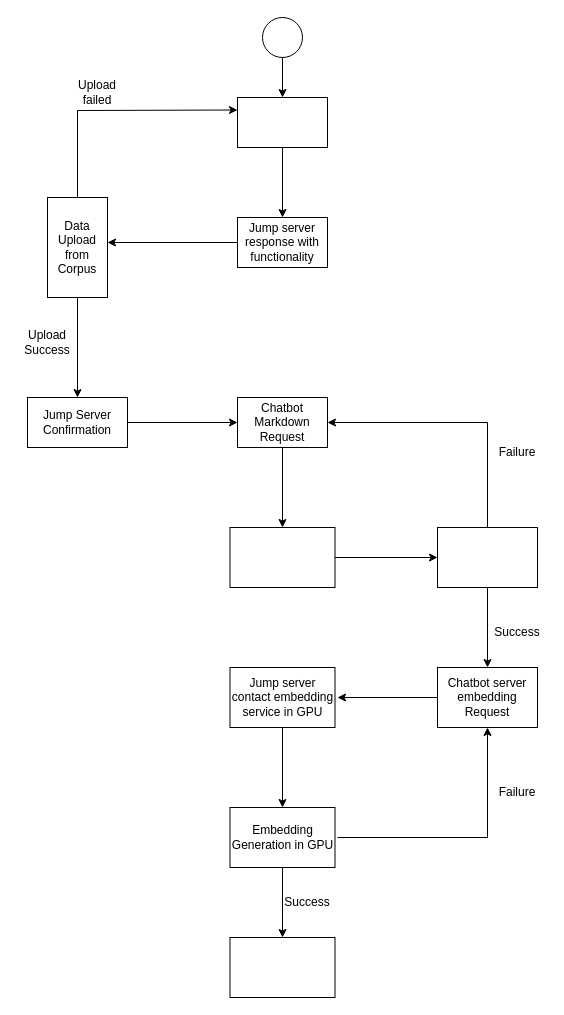
Image size: 564x1015. Some labels were removed from this diagram. The centre of each missing label's shape, as x and y in pixels:
Chatbot server call to upload data: the point at 282,122
Jump server contact markdown service in GPU: the point at 282,557
Markdown Generation in GPU: the point at 487,557
Store in Vector DB: the point at 282,967
